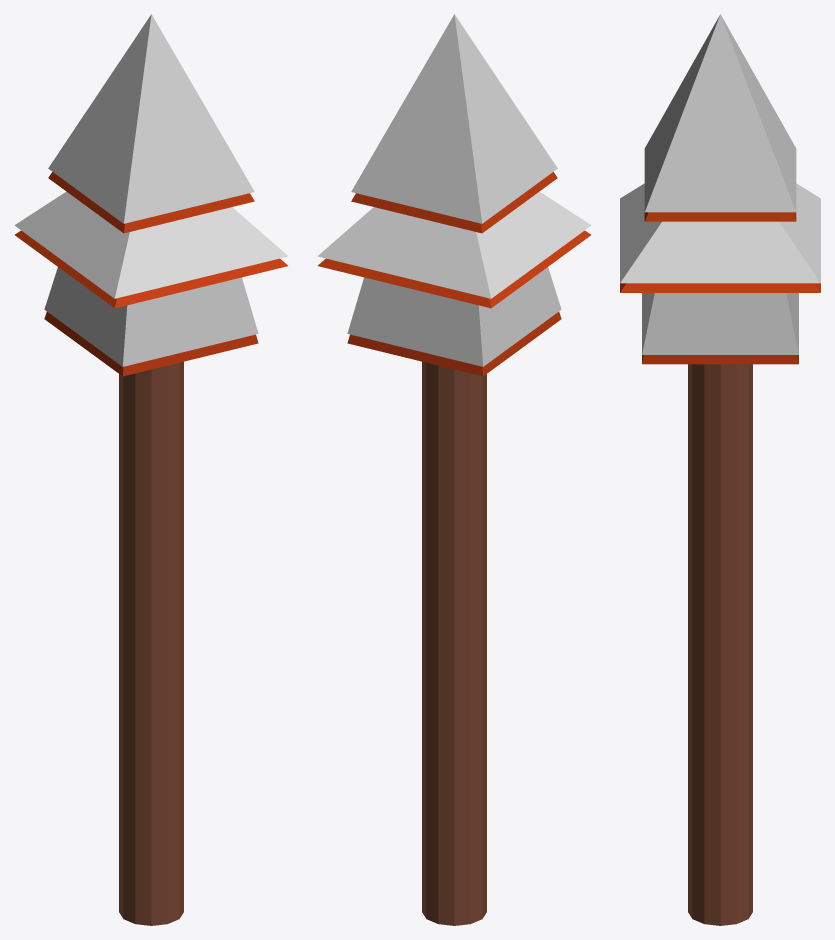
Rendered from Tree_15_winter_red_mat.fbx.
3 views of the same model, side by side, from view 1: azimuth 30°, elevation 25°; view 2: azimuth 150°, elevation 25°; view 3: azimuth 270°, elevation 25° (orthographic).
Visible parts, largest first — view 1: Tree_15_winter_red_mat; view 2: Tree_15_winter_red_mat; view 3: Tree_15_winter_red_mat.
Boxes of the visible parts, x1,y1,x2,y2 form: Tree_15_winter_red_mat: (14, 14, 288, 925); Tree_15_winter_red_mat: (317, 14, 591, 925); Tree_15_winter_red_mat: (620, 14, 820, 925).
Bounding box in the file's own units: 68.73 × 339 × 68.73.
